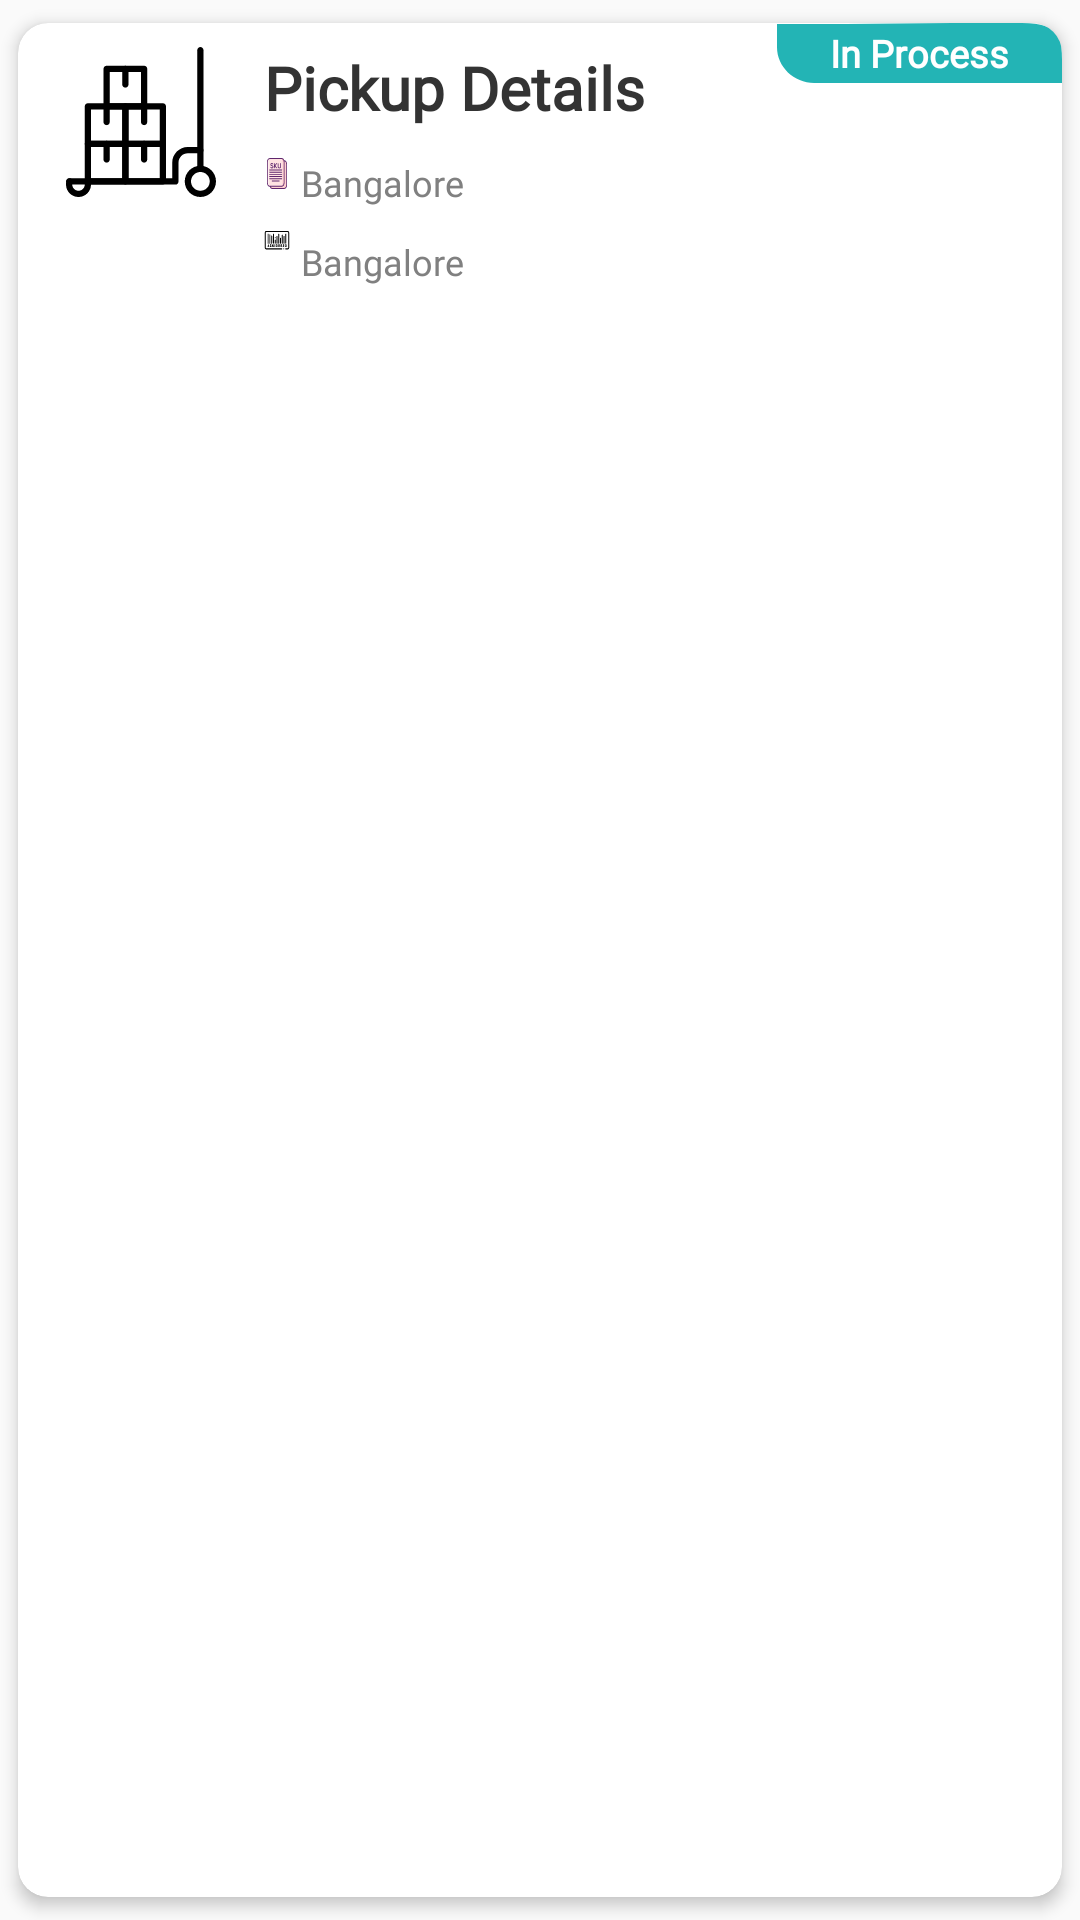

Icons on this 1080px×1920px Android screen, each with its box as region(x1, y1, x2, y2):
cart: region(66, 47, 216, 197)
